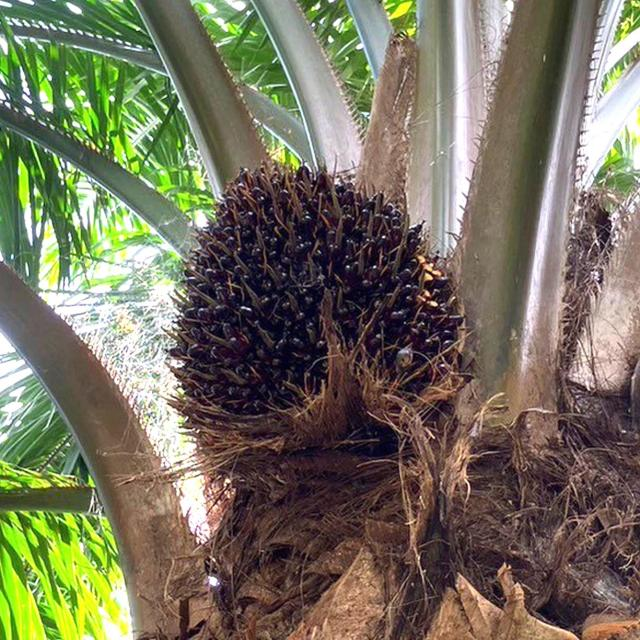almost: (135, 141, 471, 473)
